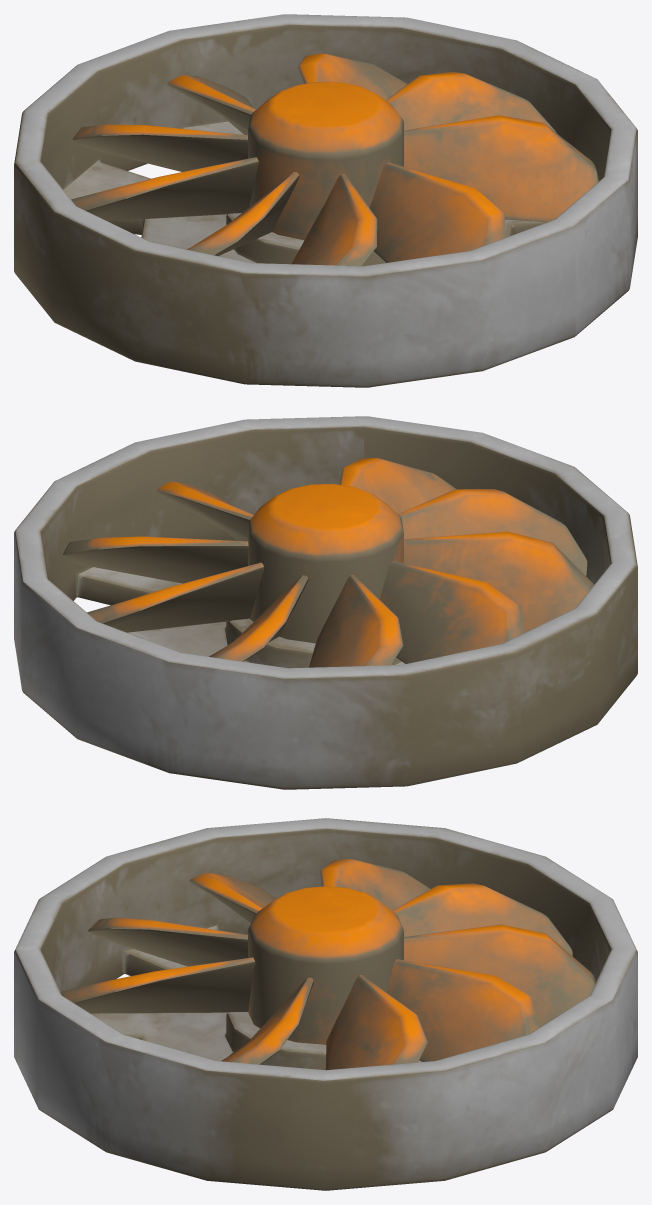
Rendered from Fan.fbx.
3 views of the same model, one above another, from view 1: azimuth 30°, elevation 25°; view 2: azimuth 150°, elevation 25°; view 3: azimuth 270°, elevation 25° (orthographic).
Visible parts, largest first — view 1: Fan.014; view 2: Fan.014; view 3: Fan.014.
Part boxes in pixels (box(x1,y1,x2,y2)): Fan.014: box(14, 14, 637, 387); Fan.014: box(14, 416, 637, 789); Fan.014: box(14, 818, 637, 1190).
Bounding box in the file's own units: 34.14 × 9.16 × 34.14.
Materials: 1 (1 with a texture image).
